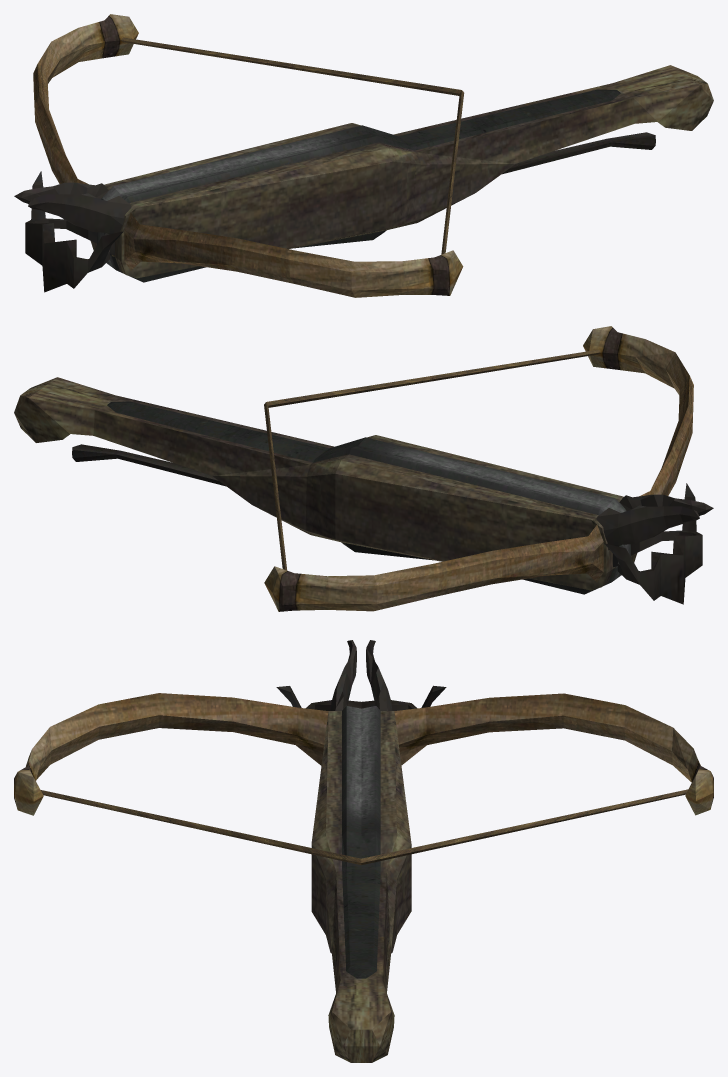
The model's file is kusza4.glb.
3 renders of one model, top to bottom at view 1: azimuth 30°, elevation 25°; view 2: azimuth 150°, elevation 25°; view 3: azimuth 270°, elevation 25°, orthographic. The views are drawn at different scales.
Parts seen in each view (by area): view 1: A zm_Morph; view 2: A zm_Morph; view 3: A zm_Morph.
Part boxes in pixels (x1,y1,x2,y2): A zm_Morph: (14, 14, 713, 297); A zm_Morph: (14, 326, 713, 611); A zm_Morph: (14, 640, 713, 1062).
Bounding box in the file's own units: 0.7945 × 0.1435 × 0.6837.
Materials: 2 (2 with a texture image).
